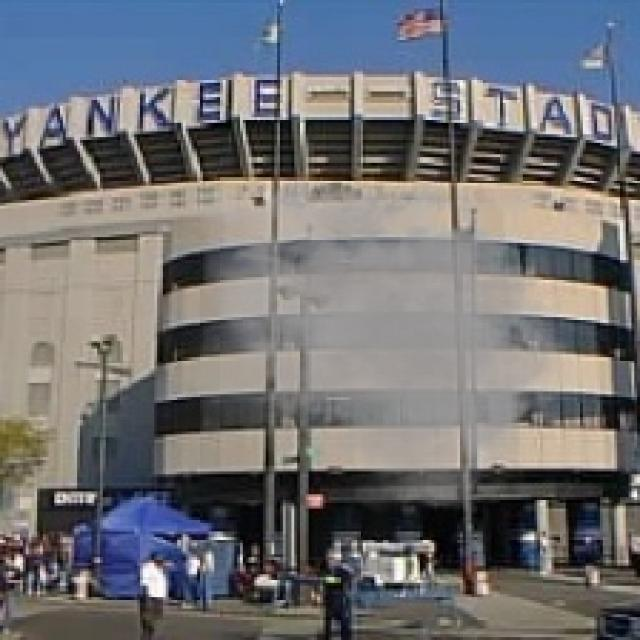smoke: (168, 163, 588, 520)
